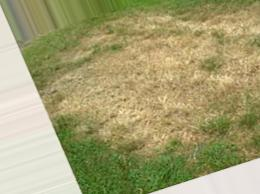patch: (124, 43, 181, 78), (133, 92, 178, 136), (72, 69, 120, 109), (210, 44, 247, 71), (198, 87, 229, 119), (224, 18, 260, 42), (93, 25, 145, 41), (87, 125, 123, 146), (158, 23, 203, 39), (187, 45, 207, 70), (79, 46, 117, 57), (234, 75, 247, 101), (181, 81, 190, 93)
